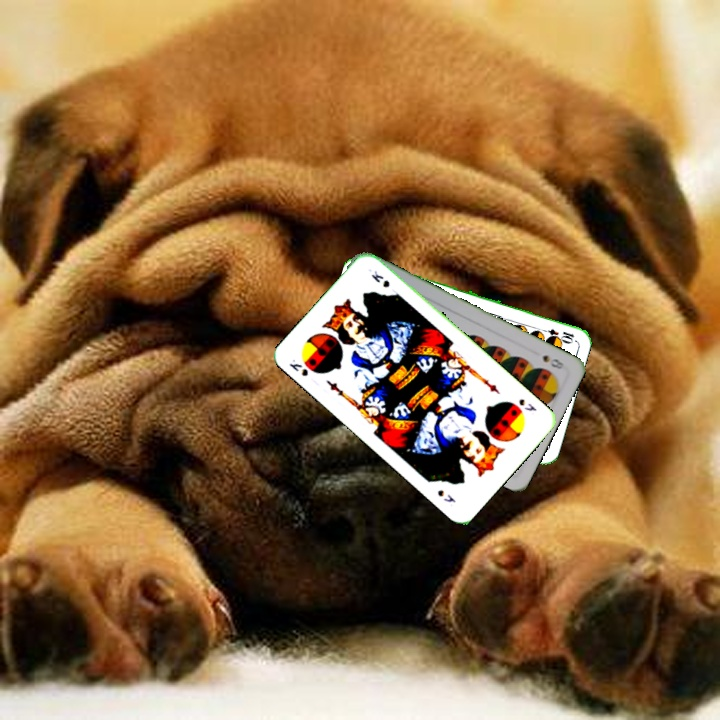E10: (536, 324, 577, 344)
S8: (538, 351, 567, 372)
SK: (285, 355, 311, 379), (515, 395, 539, 414)
